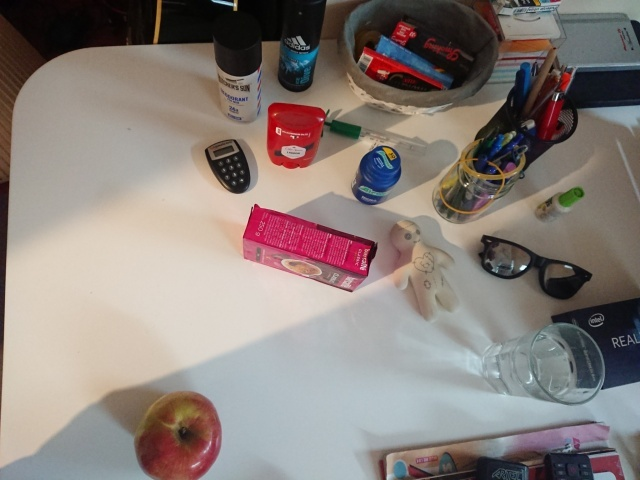Barcaffe Classic Original 225g: (241, 203, 381, 295)
